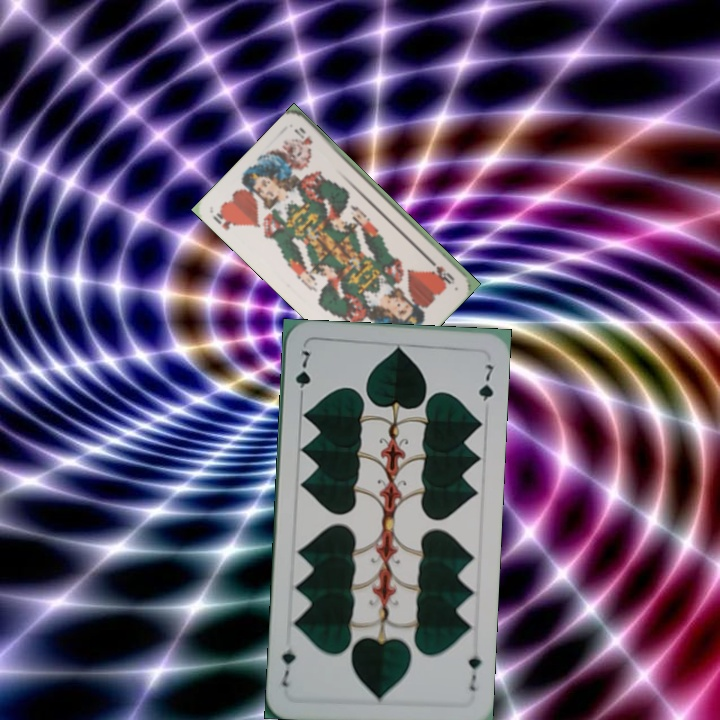G7: (291, 346, 313, 403), (464, 651, 484, 694)
HO: (425, 255, 457, 285), (208, 205, 241, 233)
